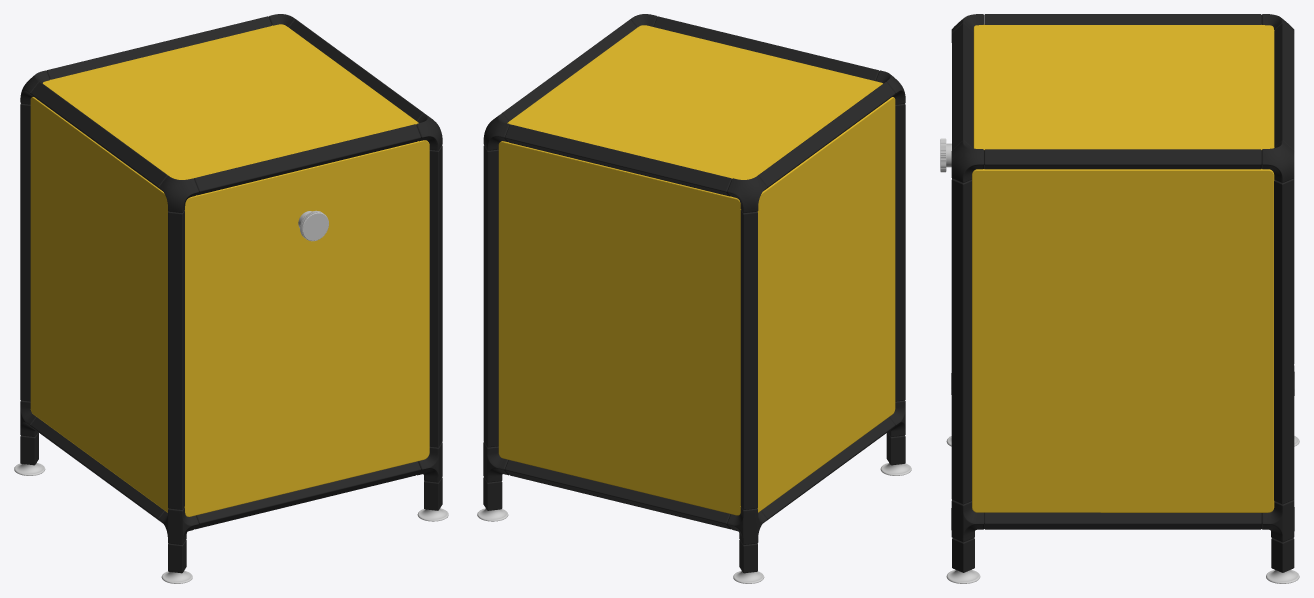
The picture shows the model from 3 angles, left to right: view 1: azimuth 30°, elevation 25°; view 2: azimuth 150°, elevation 25°; view 3: azimuth 270°, elevation 25°; orthographic projection. The views are drawn at different scales.
Parts seen in each view (by area): view 1: 329x329x420; view 2: 329x329x420; view 3: 329x329x420.
Boxes of the visible parts, left/top/right/bottom form: 329x329x420: left=14, top=14, right=448, bottom=583; 329x329x420: left=477, top=14, right=911, bottom=583; 329x329x420: left=940, top=14, right=1299, bottom=583.
Bounding box in the file's own units: 0.4189 × 0.5593 × 0.4257.
